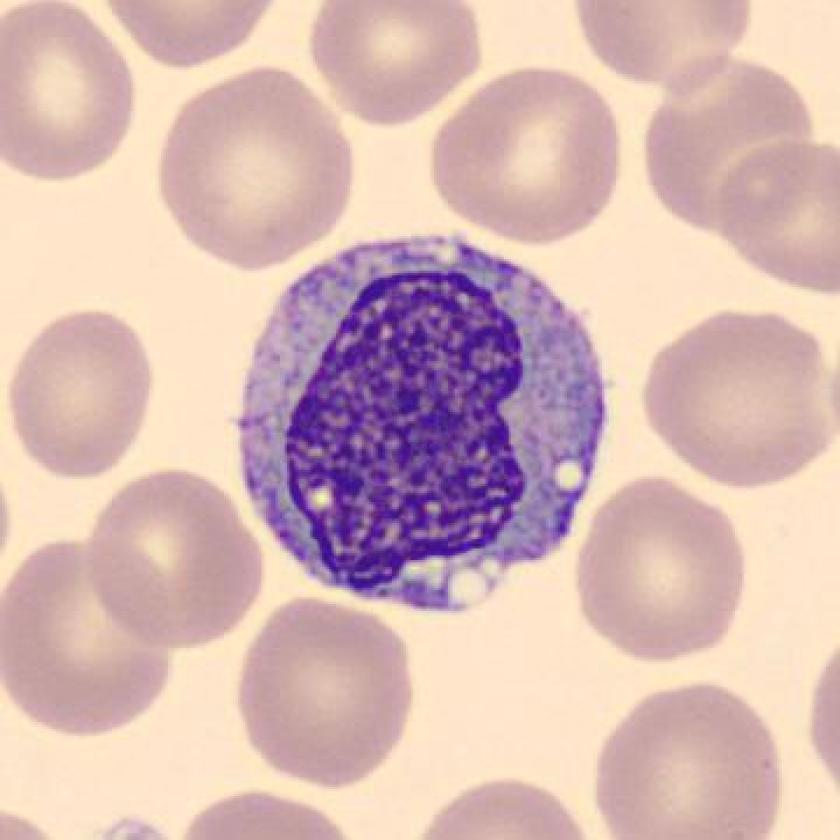monocyte: (211, 219, 636, 628)
